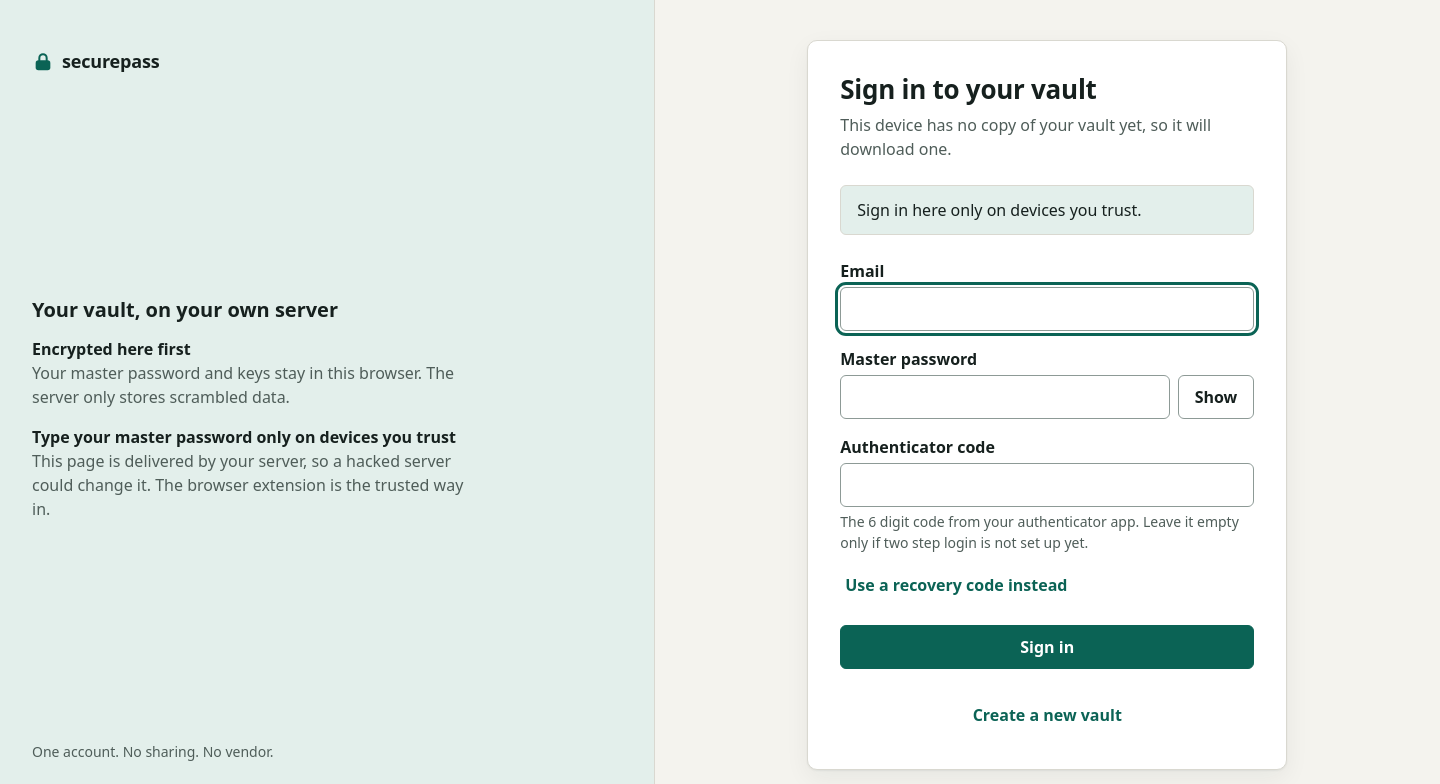
Test: SignInScreen › shows an alert for {"kind":"wrong_credentials"} and clears the password
The image size is (1440, 784).
Type "me@example.com" into the field labelled "Email" at (1047, 309), box [840,287,1254,331]
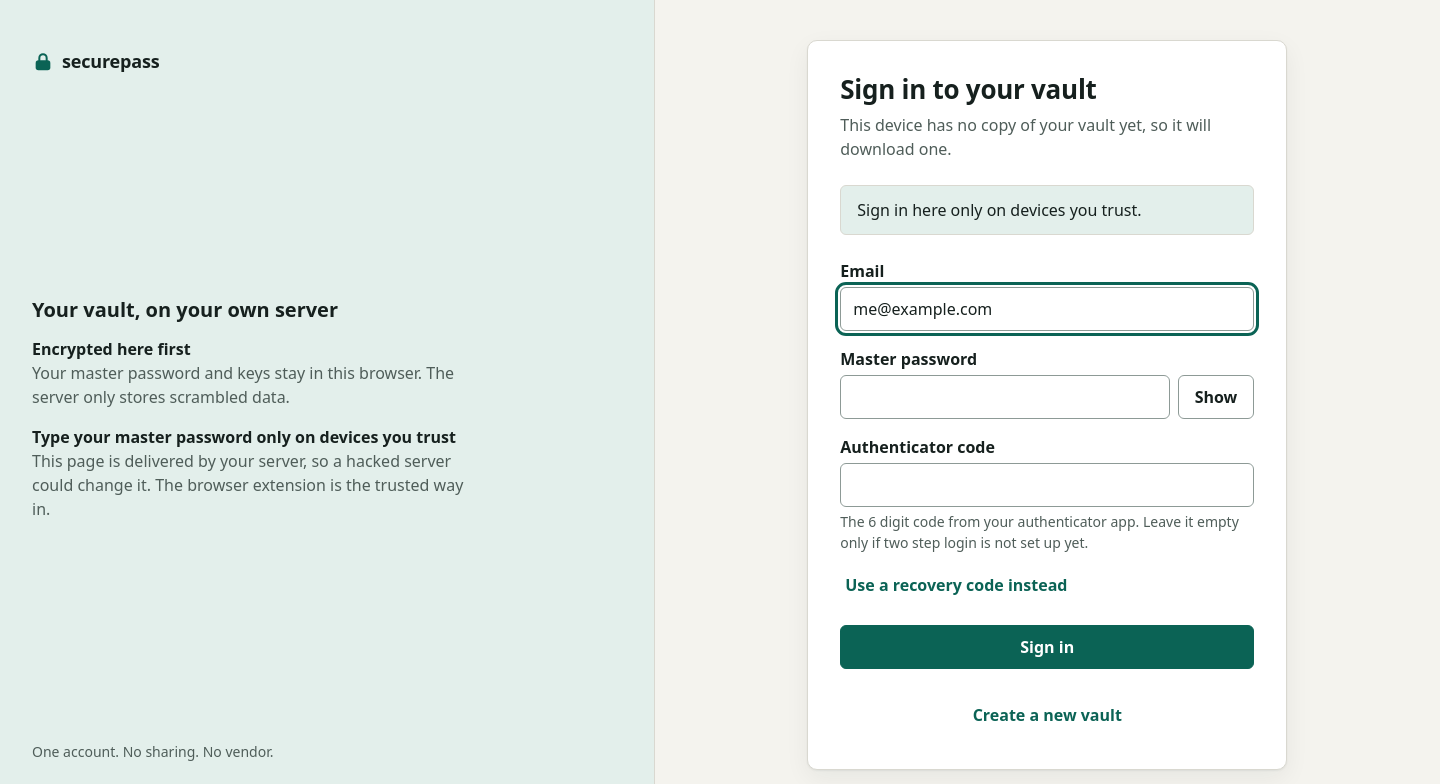
Type "hunter2hunter2" into the password field labelled "Master password" at (1005, 397), box [840,375,1170,419]
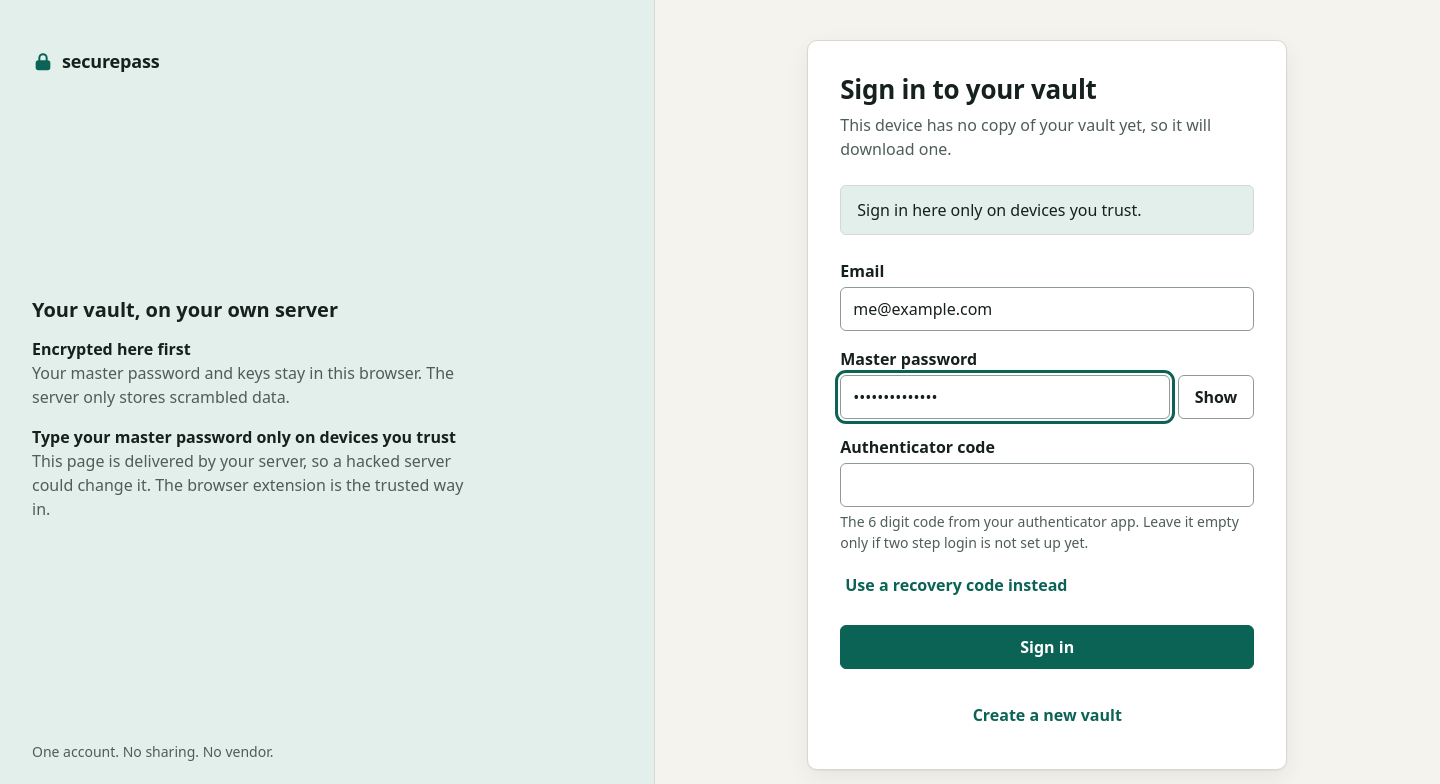
Click the button "Sign in" at (1047, 647), box [840,625,1254,669]
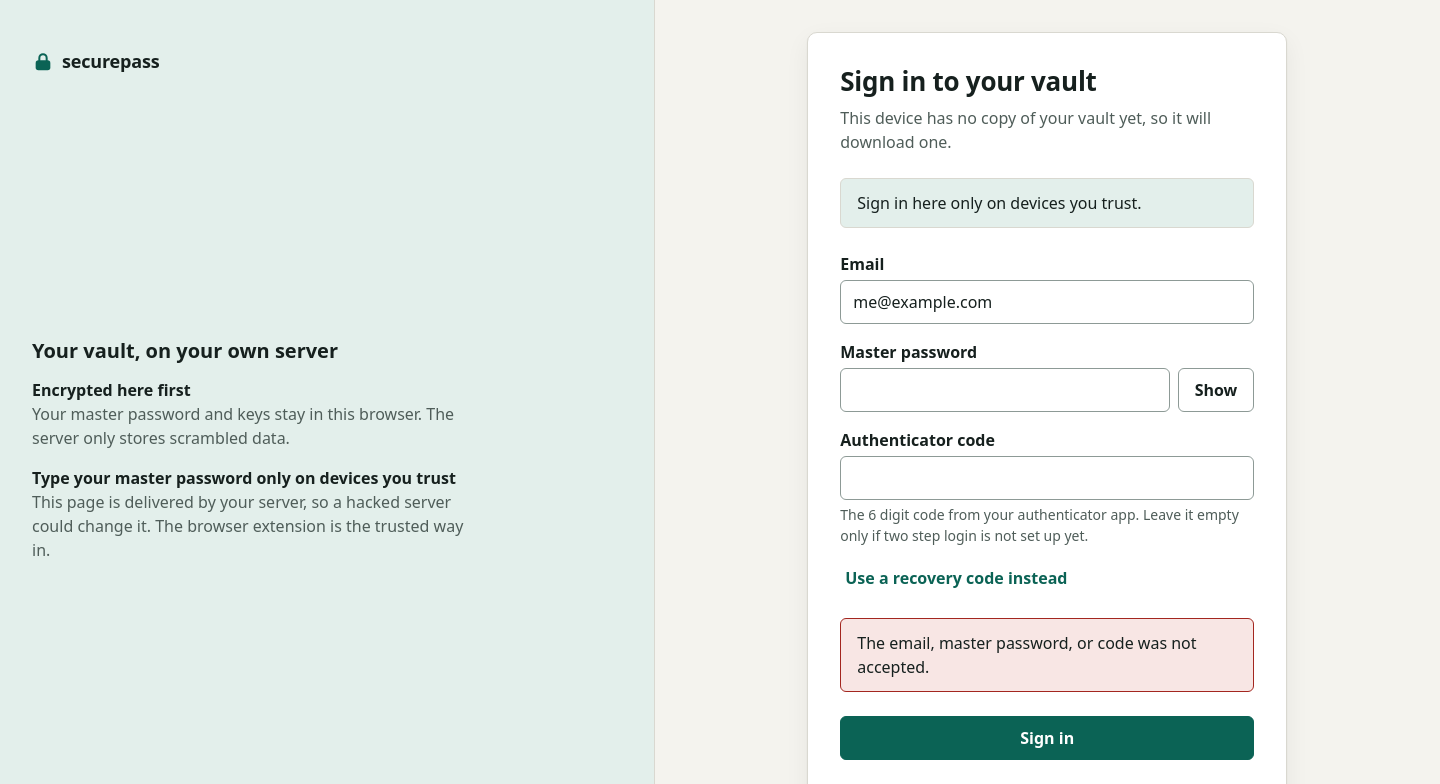
Check: the message shows "email, master password, or code was not accepted", box [857,632,1197,678]
Check: the password field labelled "Master password" is empty, box [840,368,1170,412]
